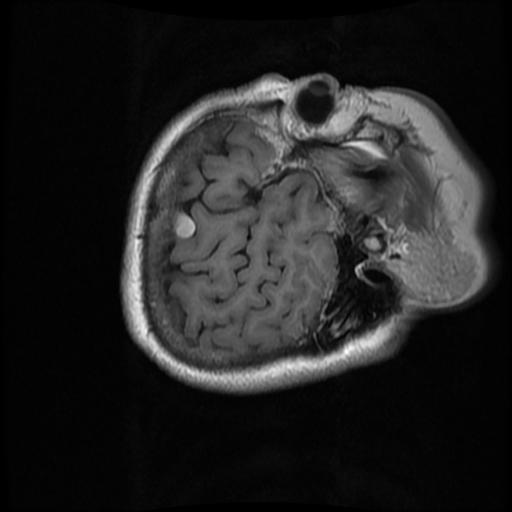meningioma: (171, 212, 196, 238)
